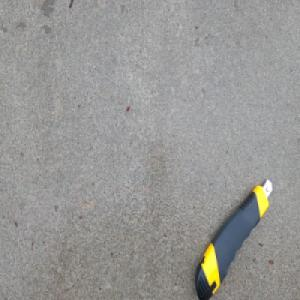Cutter: (193, 174, 273, 298)
